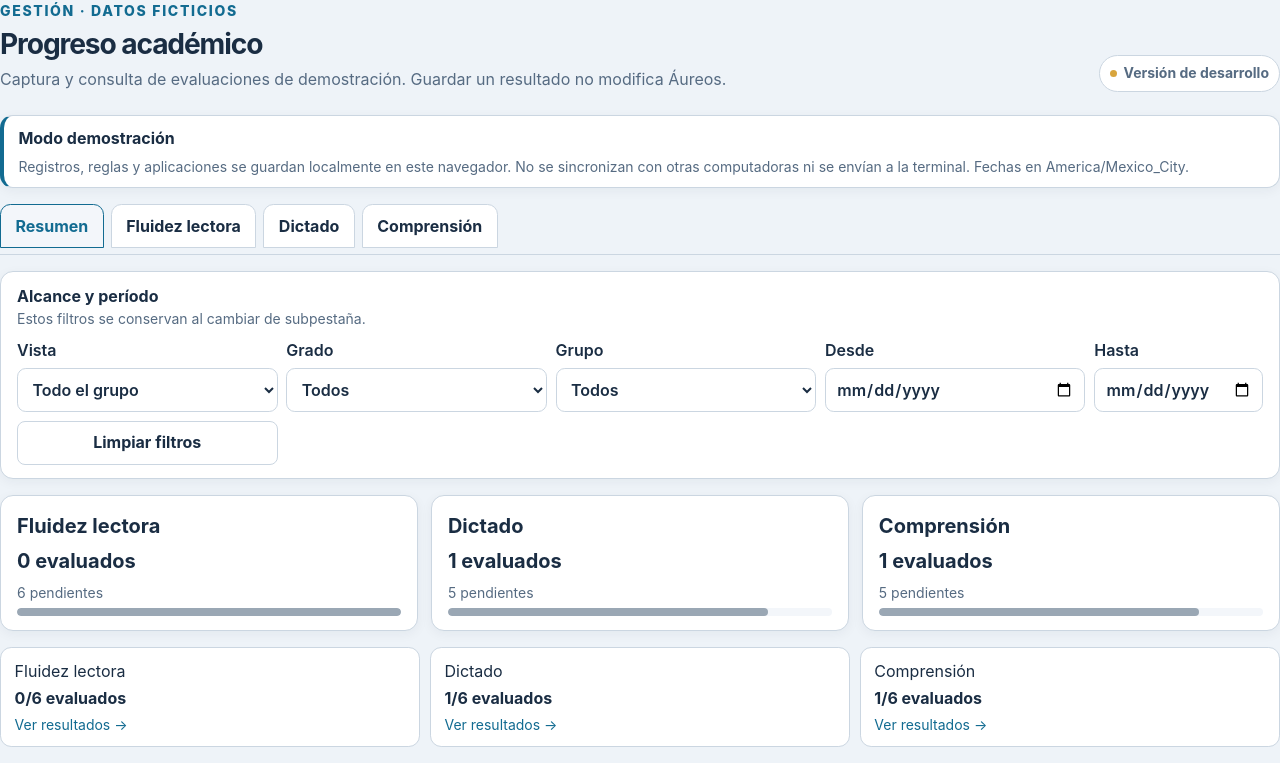
Test case: PM.8 interfaz de progreso, asistencia y reglas › muestra porcentaje con escala fija, cero real y cobertura parcial de comprensi?n
Expected: the tab "Resumen" is shown, 0,204 -> 104,248
Click the tab "Dictado": (309,226) 264,204 -> 355,248
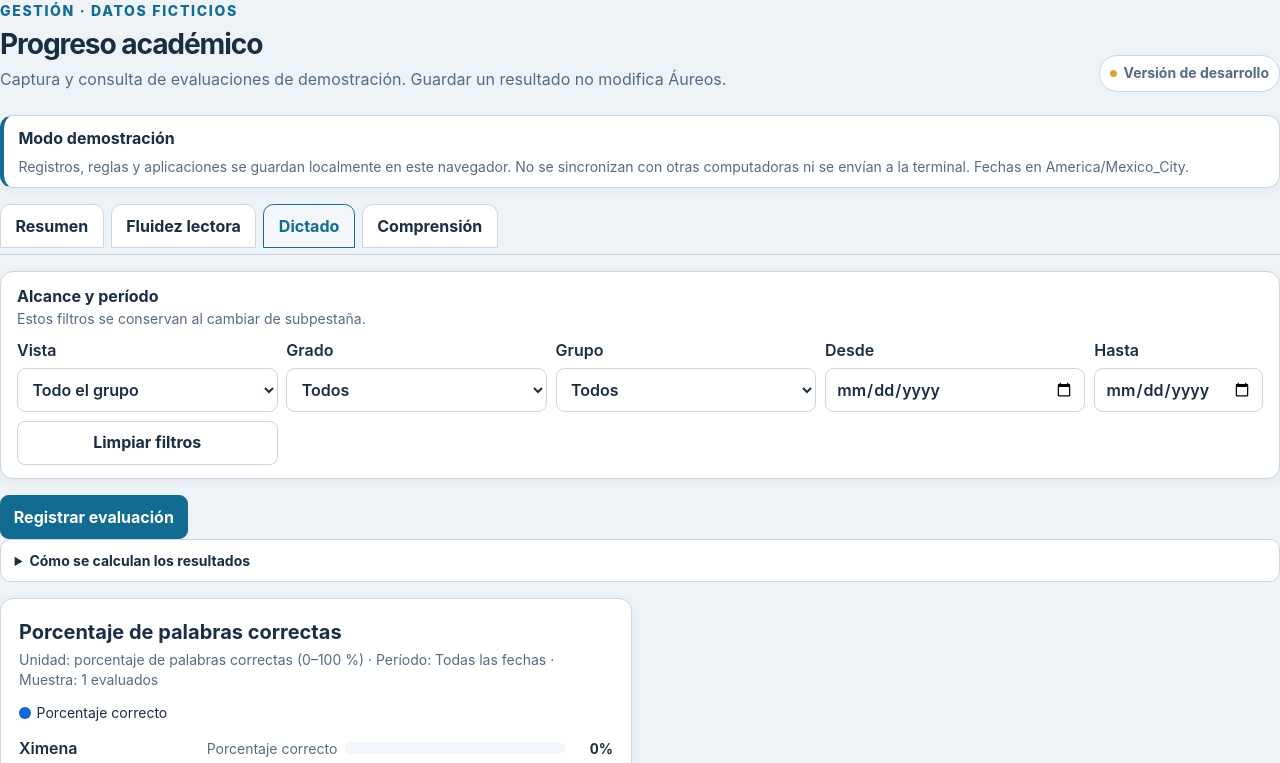
Expected: the heading "Porcentaje de palabras correctas" is shown, 19,620 -> 342,644
Expected: the text "0%" is shown, 590,740 -> 613,757
Click the tab "Comprensión": (430,226) 362,204 -> 498,248
(page scrolled)
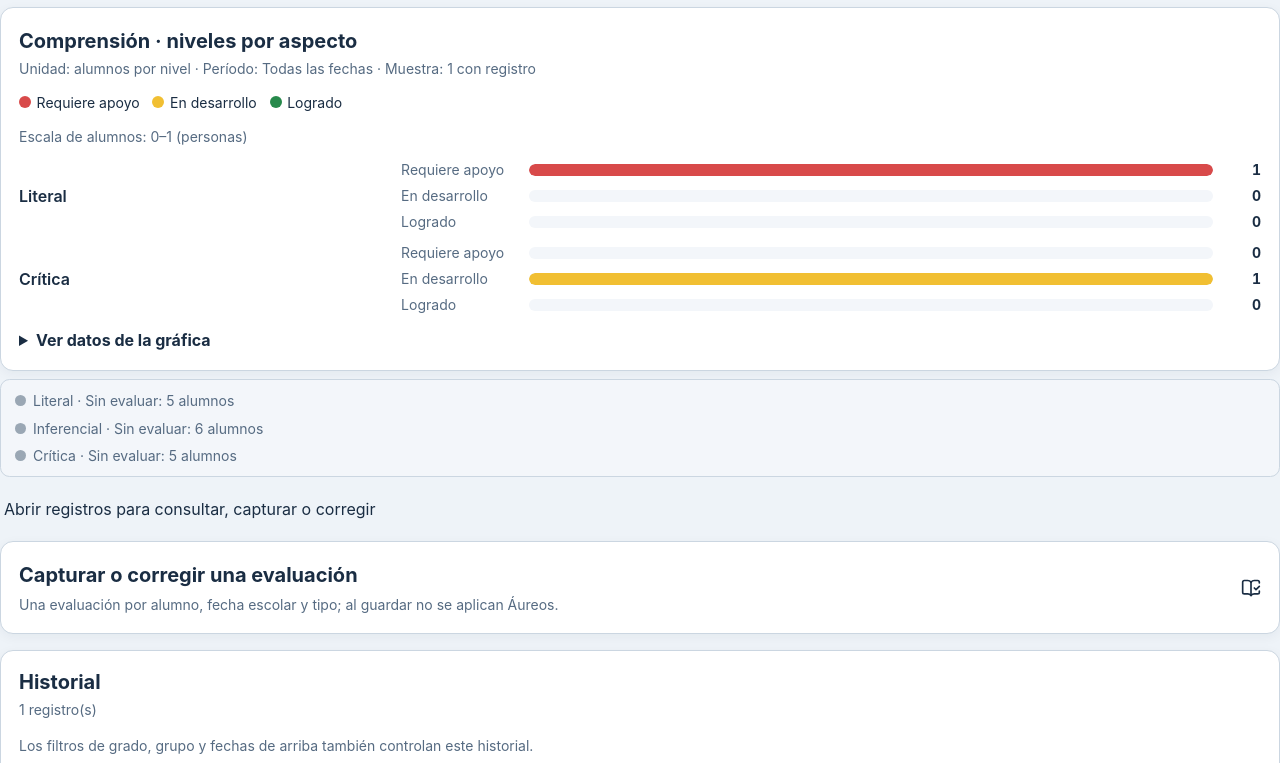
Expected: the text "Literal" is shown, 19,186 -> 67,206
Expected: the list item "Literal · Sin evaluar: 5 alumnos" is shown, 15,392 -> 234,409
